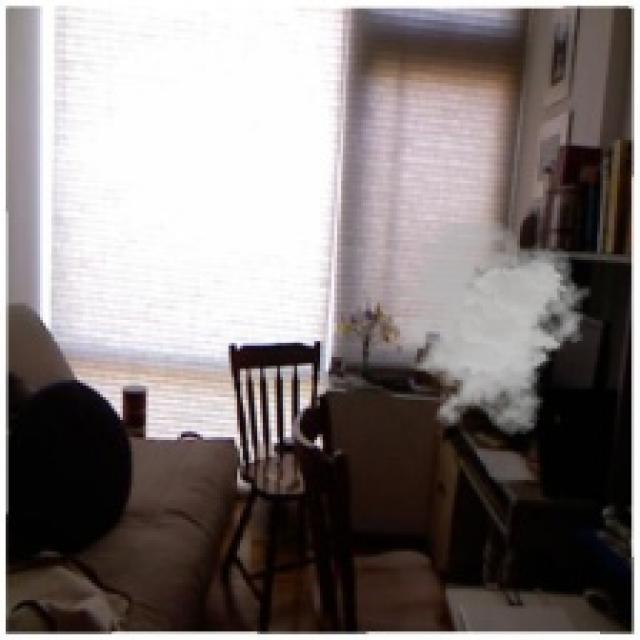Smoke: (377, 217, 592, 437)
